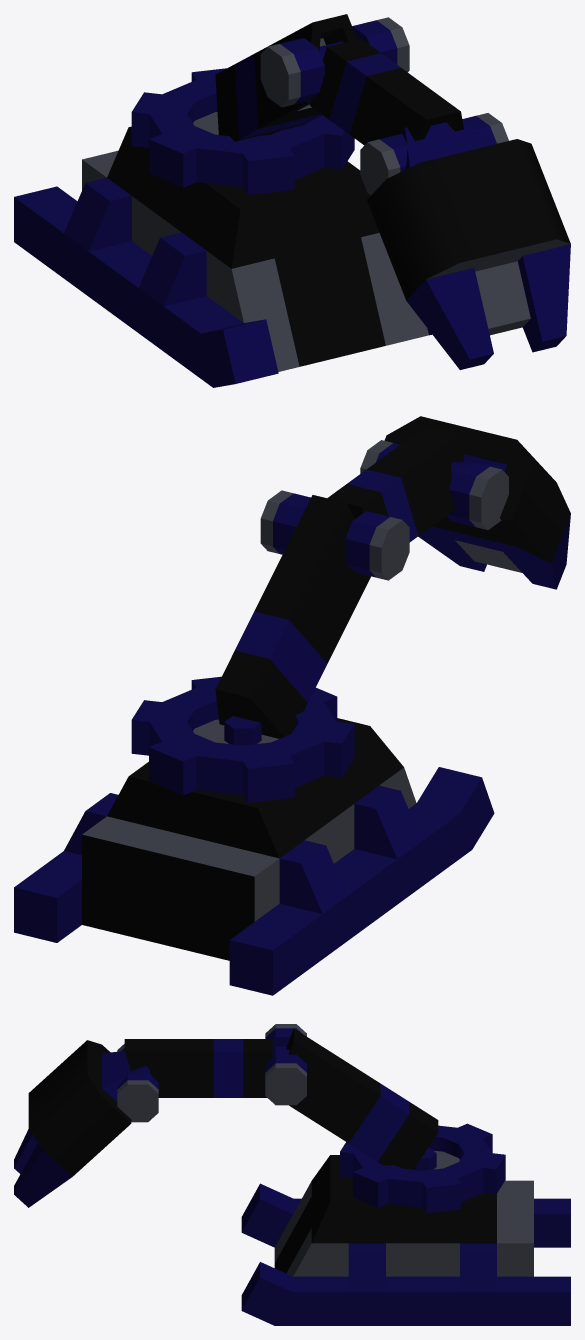
The model's file is inserter.fbx.
3 renders of one model, top to bottom at view 1: azimuth 30°, elevation 25°; view 2: azimuth 150°, elevation 25°; view 3: azimuth 270°, elevation 25°, orthographic. The views are drawn at different scales.
Visible parts, largest first — view 1: mergedBlocks; view 2: mergedBlocks; view 3: mergedBlocks.
Boxes of the visible parts, bbox=[...] form: mergedBlocks: bbox=[14, 14, 570, 387]; mergedBlocks: bbox=[14, 416, 570, 995]; mergedBlocks: bbox=[14, 1024, 570, 1325].
Size of the model in its own units: 6 by 7.28 by 15.04.
